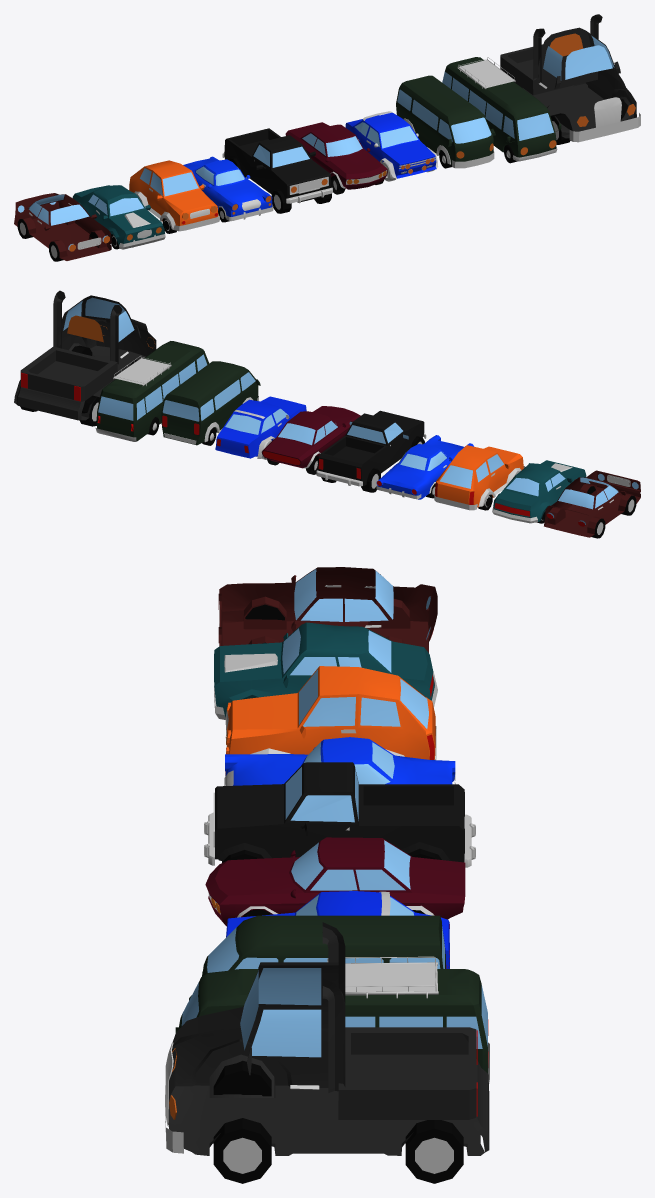
File: Low Poly Cars.obj
3 renders of one model, top to bottom at view 1: azimuth 30°, elevation 25°; view 2: azimuth 150°, elevation 25°; view 3: azimuth 270°, elevation 25°, orthographic. The views are drawn at different scales.
Visible parts, largest first — view 1: 2Body_Plane.002, 10Body_Plane.012, 9Body_Plane.011, 6Body_Plane.008, 1Body_Plane, 4Wheels_Plane.001, 7Body_Plane.009, 8Body_Plane.010, 3Body_Plane.004, 5Body_Plane.003, 6Wheels_Circle.005, 2Wheels_Circle.002 (+1 smaller); view 2: 2Body_Plane.002, 10Body_Plane.012, 9Body_Plane.011, 6Body_Plane.008, 1Body_Plane, 4Wheels_Plane.001, 7Body_Plane.009, 3Body_Plane.004, 8Body_Plane.010, 5Body_Plane.003, 2Wheels_Circle.002, 6Wheels_Circle.005 (+1 smaller); view 3: 2Body_Plane.002, 6Body_Plane.008, 4Wheels_Plane.001, 7Body_Plane.009, 1Body_Plane, 10Body_Plane.012, 3Body_Plane.004, 9Body_Plane.011, 2Wheels_Circle.002, 5Body_Plane.003, 8Body_Plane.010.
Part boxes in pixels (x1=…): 2Body_Plane.002: x1=500, y1=14, x2=640, y2=142; 10Body_Plane.012: x1=442, y1=57, x2=561, y2=161; 9Body_Plane.011: x1=396, y1=75, x2=495, y2=168; 6Body_Plane.008: x1=222, y1=128, x2=332, y2=203; 1Body_Plane: x1=14, y1=193, x2=111, y2=260; 4Wheels_Plane.001: x1=129, y1=160, x2=219, y2=231; 7Body_Plane.009: x1=285, y1=122, x2=387, y2=189; 8Body_Plane.010: x1=345, y1=111, x2=438, y2=178; 3Body_Plane.004: x1=72, y1=185, x2=165, y2=249; 5Body_Plane.003: x1=183, y1=156, x2=273, y2=221; 6Wheels_Circle.005: x1=229, y1=157, x2=331, y2=213; 2Wheels_Circle.002: x1=513, y1=81, x2=627, y2=144; 2Body_Plane.002: x1=14, y1=290, x2=156, y2=420; 10Body_Plane.012: x1=95, y1=341, x2=209, y2=441; 9Body_Plane.011: x1=161, y1=361, x2=260, y2=445; 6Body_Plane.008: x1=316, y1=410, x2=426, y2=486; 1Body_Plane: x1=544, y1=470, x2=640, y2=537; 4Wheels_Plane.001: x1=434, y1=445, x2=525, y2=510; 7Body_Plane.009: x1=261, y1=406, x2=360, y2=468; 3Body_Plane.004: x1=492, y1=460, x2=586, y2=523; 8Body_Plane.010: x1=215, y1=396, x2=306, y2=458; 5Body_Plane.003: x1=376, y1=435, x2=473, y2=499; 2Wheels_Circle.002: x1=20, y1=345, x2=137, y2=426; 6Wheels_Circle.005: x1=321, y1=436, x2=424, y2=492; 2Body_Plane.002: x1=165, y1=922, x2=489, y2=1155; 6Body_Plane.008: x1=204, y1=762, x2=475, y2=867; 4Wheels_Plane.001: x1=225, y1=666, x2=436, y2=760; 7Body_Plane.009: x1=205, y1=837, x2=465, y2=926; 1Body_Plane: x1=218, y1=567, x2=437, y2=652; 10Body_Plane.012: x1=175, y1=956, x2=489, y2=1083; 3Body_Plane.004: x1=214, y1=622, x2=437, y2=719; 9Body_Plane.011: x1=202, y1=915, x2=446, y2=976; 2Wheels_Circle.002: x1=213, y1=1060, x2=463, y2=1183; 5Body_Plane.003: x1=224, y1=737, x2=455, y2=785; 8Body_Plane.010: x1=226, y1=891, x2=449, y2=968.
Bounding box in the file's own units: 4.05 × 0.6912 × 1.01.
